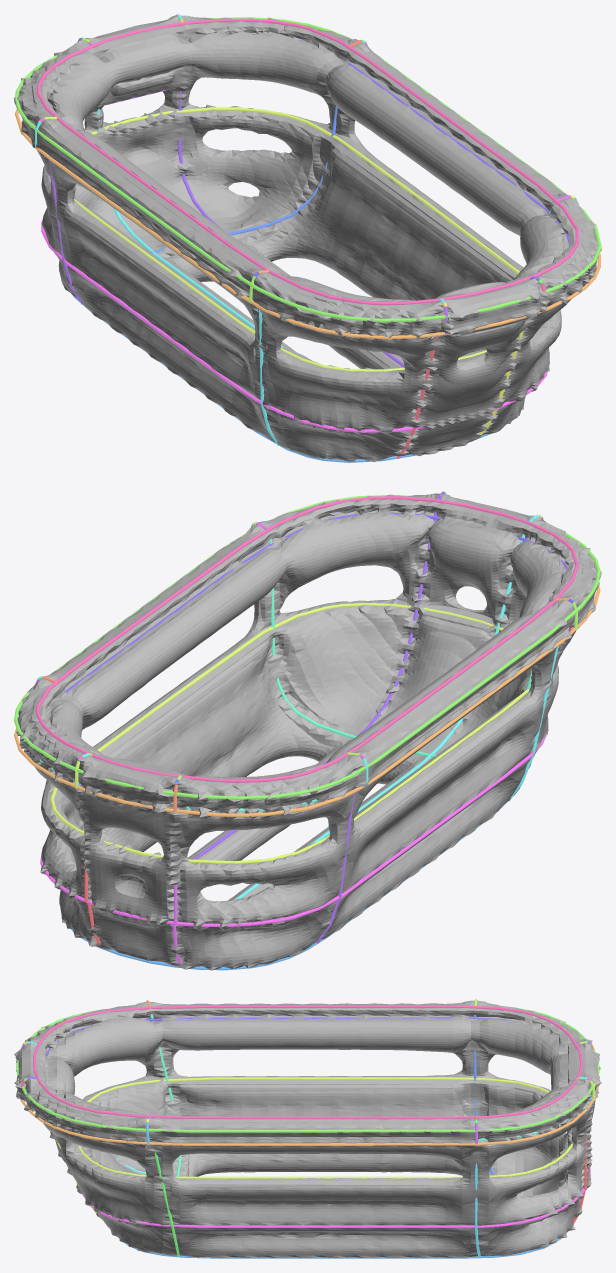
The model's file is flowrep_bathtub.gltf.
3 renders of one model, top to bottom at view 1: azimuth 30°, elevation 25°; view 2: azimuth 150°, elevation 25°; view 3: azimuth 270°, elevation 25°, orthographic. The views are drawn at different scales.
Size of the model in its own units: 0.4465 by 0.2743 by 0.8717.
